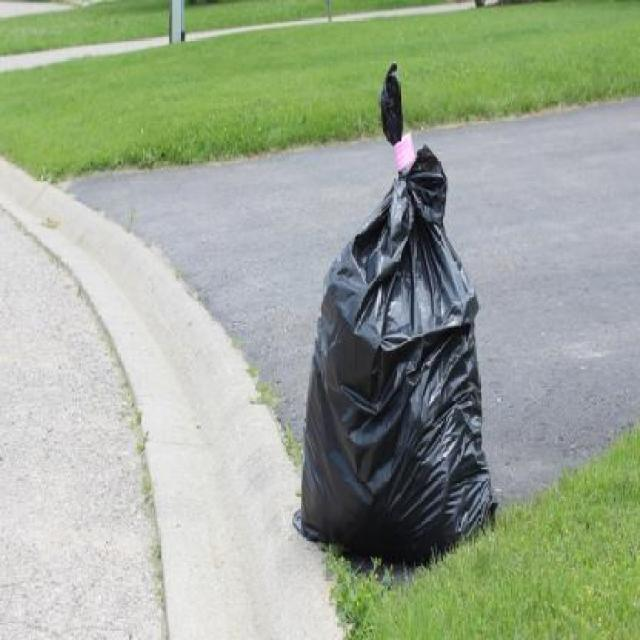garbage: (294, 134, 488, 588)
